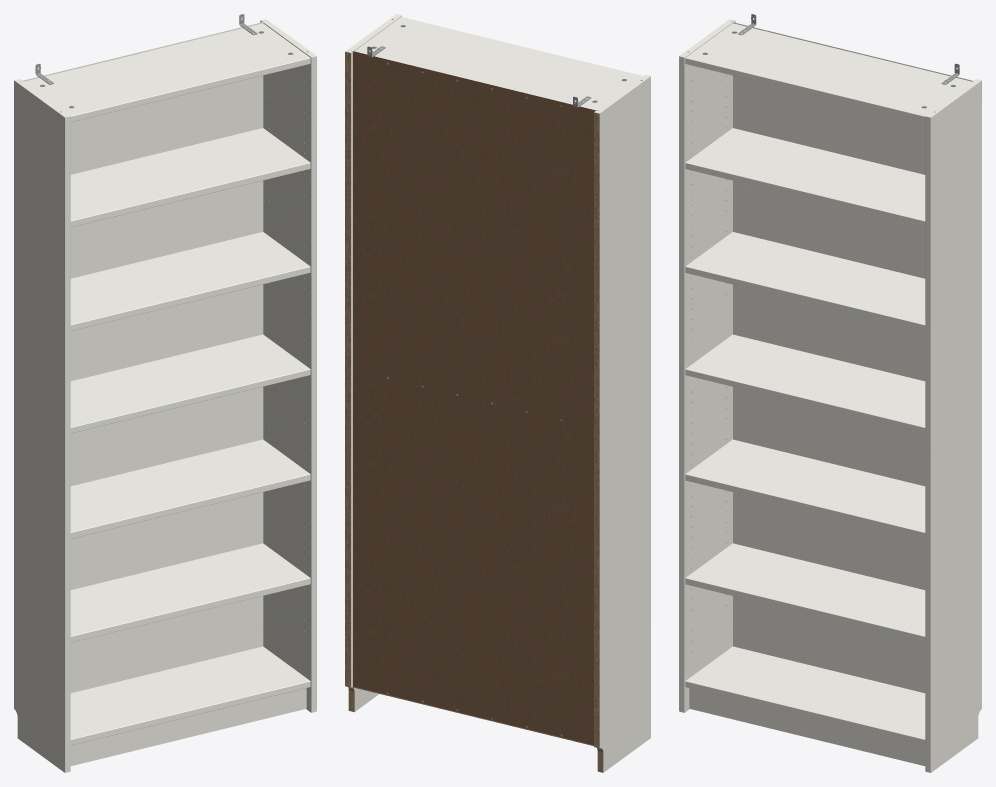
3 views of the same model, side by side, from view 1: azimuth 30°, elevation 25°; view 2: azimuth 150°, elevation 25°; view 3: azimuth 330°, elevation 25° (orthographic).
Parts seen in each view (by area): view 1: GLTF; view 2: GLTF; view 3: GLTF.
Boxes of the visible parts, x1=… form: GLTF: x1=14, y1=14, x2=316, y2=772; GLTF: x1=345, y1=14, x2=650, y2=772; GLTF: x1=679, y1=14, x2=981, y2=772.
Size of the model in its own units: 0.8 by 2.02 by 0.28.
Materials: 1 (1 with a texture image).
